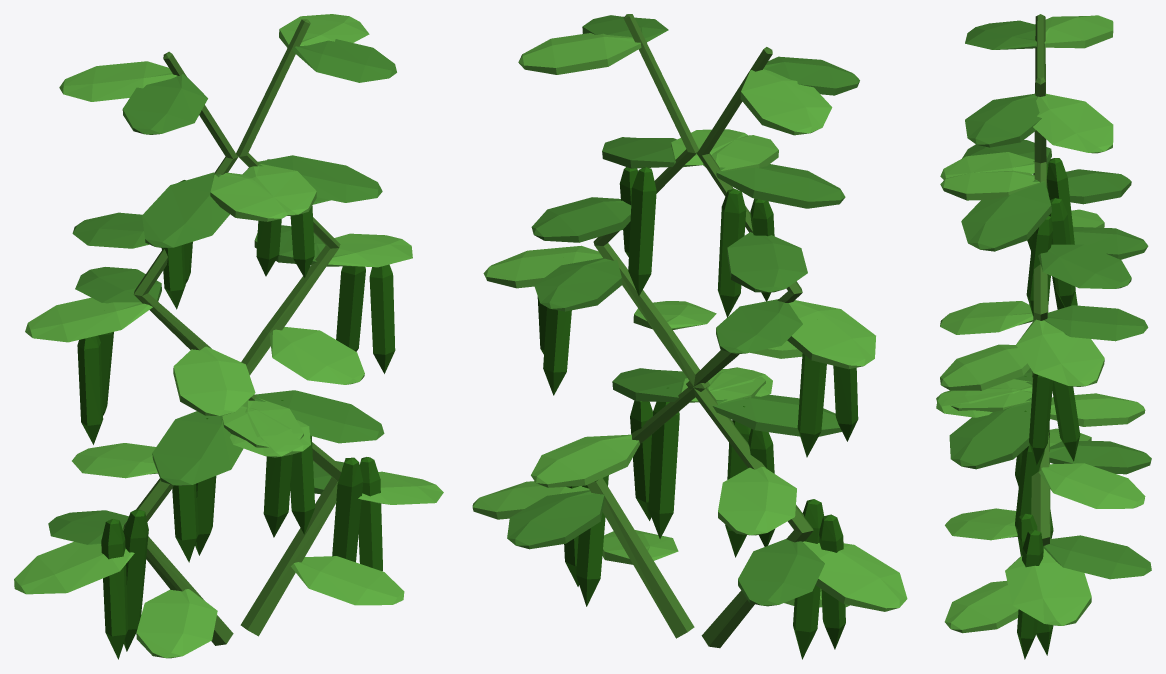
Rendered from greenbean_3.gltf.
3 views of the same model, side by side, from view 1: azimuth 30°, elevation 25°; view 2: azimuth 150°, elevation 25°; view 3: azimuth 270°, elevation 25° (orthographic). The views are drawn at different scales.
Visible parts, largest first — view 1: greenbean_3; view 2: greenbean_3; view 3: greenbean_3.
Part boxes in pixels (bbox=[...]): greenbean_3: bbox=[14, 14, 443, 659]; greenbean_3: bbox=[472, 14, 907, 659]; greenbean_3: bbox=[936, 14, 1151, 659].
Size of the model in its own units: 1.12 by 1.53 by 0.5247.
